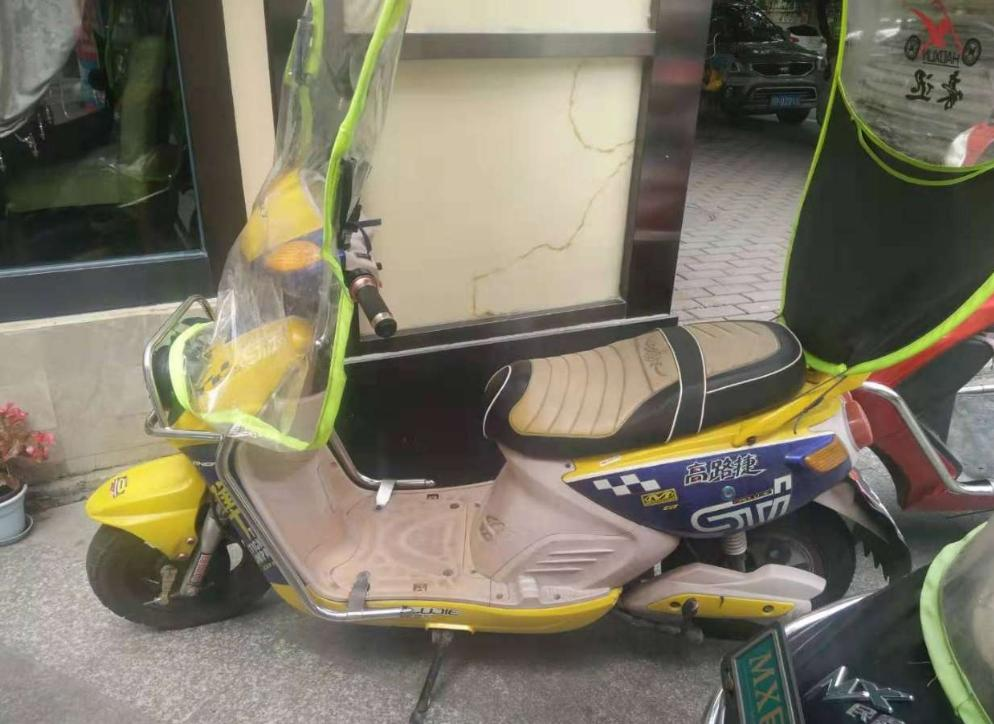电动车: (71, 6, 994, 693)
